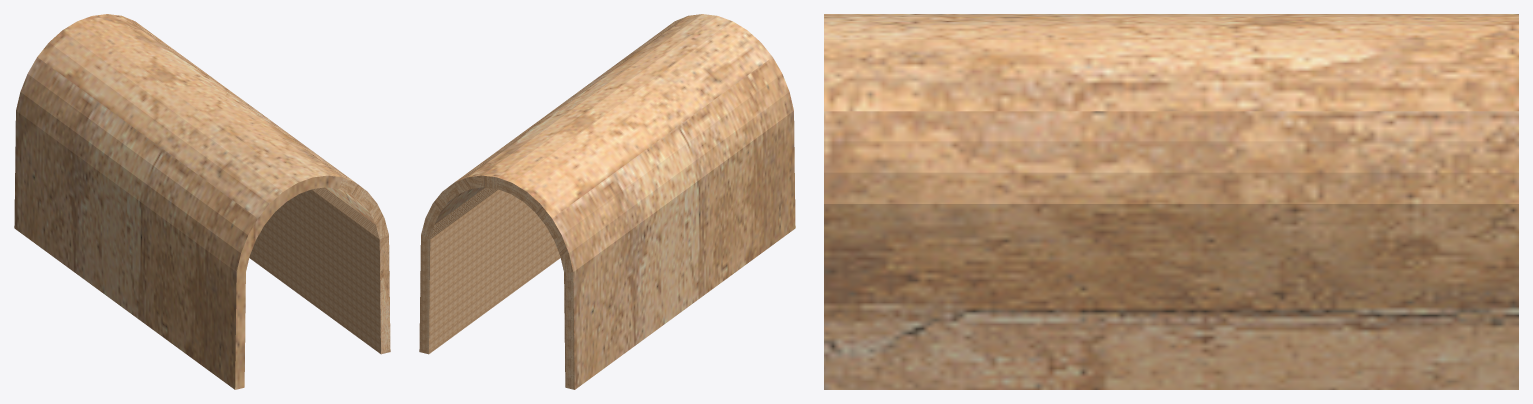
Rendered from escuro.obj.
The picture shows the model from 3 angles, left to right: view 1: azimuth 30°, elevation 25°; view 2: azimuth 150°, elevation 25°; view 3: azimuth 270°, elevation 25°; orthographic projection. The views are drawn at different scales.
Visible parts, largest first — view 1: Circle_Circle_002; view 2: Circle_Circle_002; view 3: Circle_Circle_002.
Part boxes in pixels (x1,y1,x2,y2): Circle_Circle_002: (14,14,390,389); Circle_Circle_002: (419,14,795,389); Circle_Circle_002: (824,14,1518,389).
Bounding box in the file's own units: 46.98 × 55.94 × 116.
1 material, 1 textured.
